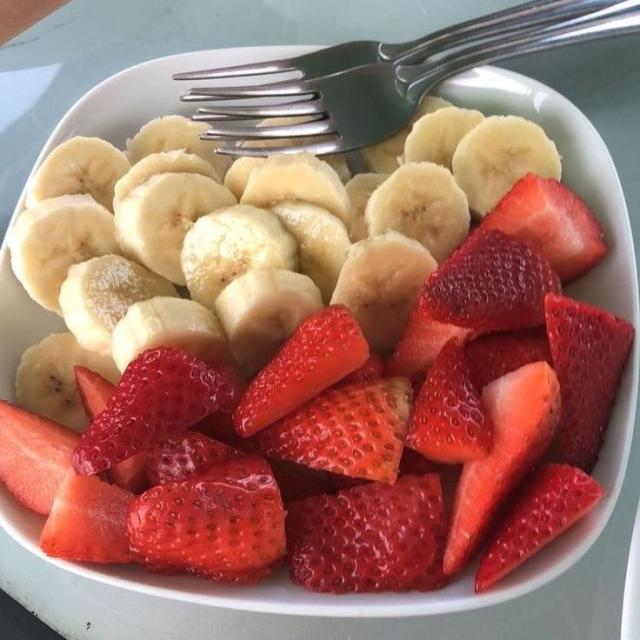banana slice: (115, 174, 236, 285), (8, 195, 118, 313), (332, 232, 437, 352), (181, 205, 297, 308), (60, 255, 177, 356), (215, 270, 322, 373), (453, 116, 560, 216), (366, 163, 470, 261), (16, 333, 119, 431), (112, 297, 228, 371), (240, 153, 350, 226), (272, 201, 350, 303), (27, 137, 129, 210), (362, 96, 451, 173), (127, 115, 231, 178), (114, 150, 220, 208), (404, 107, 484, 170), (346, 174, 388, 241), (225, 157, 265, 199), (242, 136, 331, 152)
strawberry sliced: (443, 361, 562, 576), (72, 347, 232, 476), (127, 456, 285, 583), (286, 473, 446, 593), (233, 305, 369, 437), (246, 377, 410, 483), (475, 463, 602, 592), (545, 294, 634, 471), (419, 228, 561, 330), (480, 173, 607, 284), (405, 339, 492, 463), (0, 400, 78, 514), (41, 470, 133, 563), (384, 293, 474, 381), (465, 329, 551, 390), (147, 431, 243, 483), (75, 365, 115, 419), (109, 453, 146, 492)
